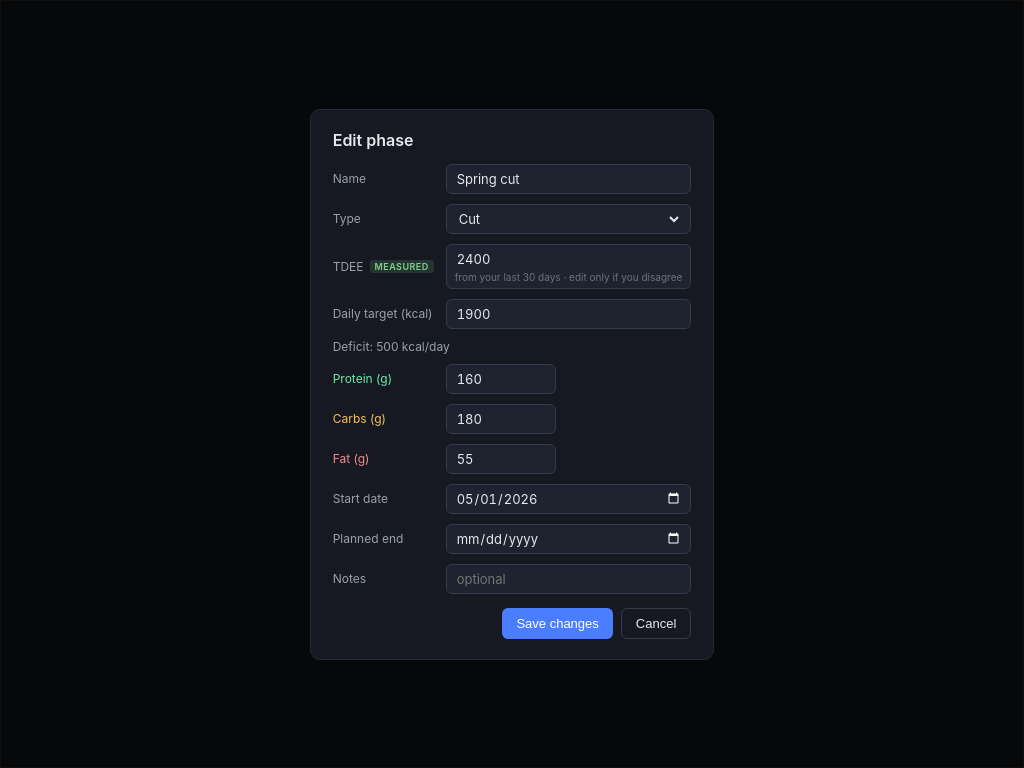
Scenario: PhaseFormModal new-phase hint (edit) › shows new-phase-hint after switching phase type when loggedDays >= 3
The width and height of the screenshot is (1024, 768).
Step 1. Select "Bulk" in the dropdown with test id "phase-type" → (568, 218), box [455,210,682,228]
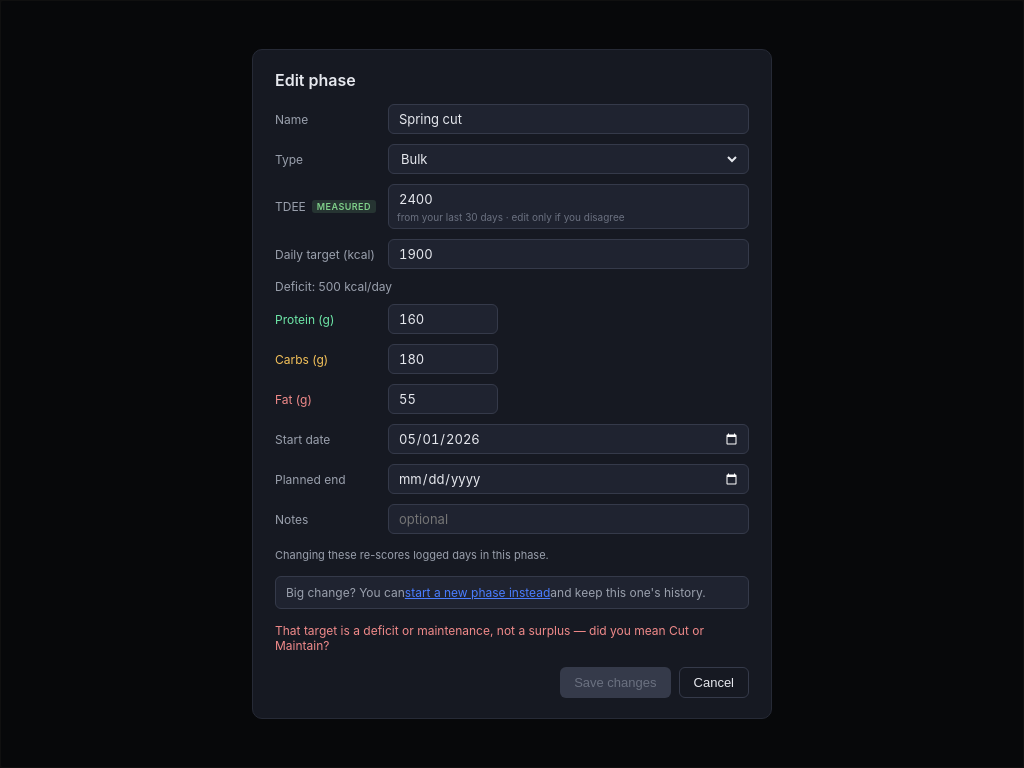
Result: the element with test id "new-phase-hint" is shown at [275,576,749,609]
